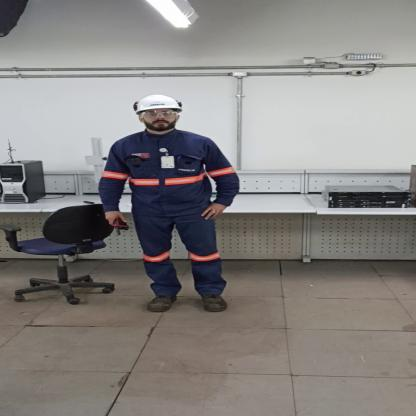Capacete: (133, 93, 186, 111)
